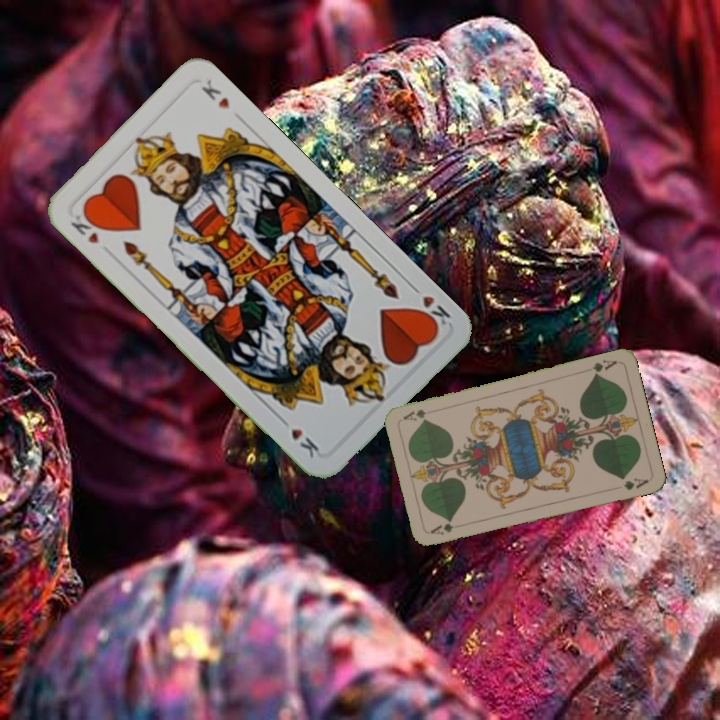GA: (426, 519, 467, 538), (588, 356, 619, 379)
HK: (406, 280, 453, 334), (66, 207, 105, 247)
